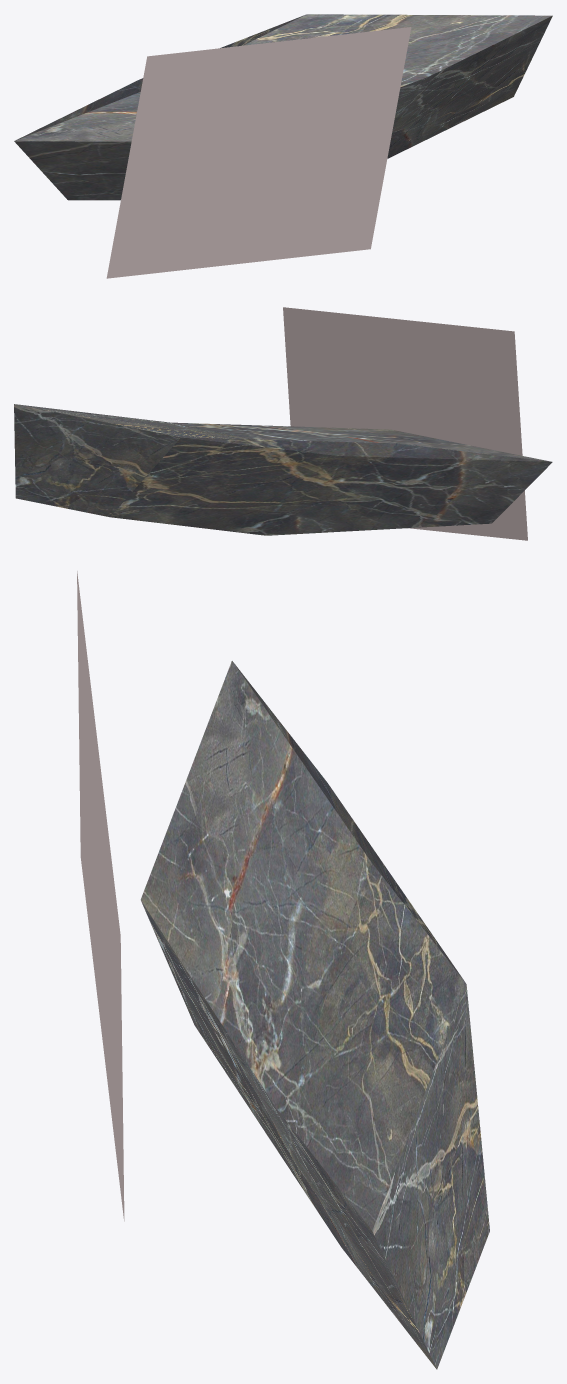
The model's file is marbleStatue.gltf.
3 renders of one model, top to bottom at view 1: azimuth 30°, elevation 25°; view 2: azimuth 150°, elevation 25°; view 3: azimuth 270°, elevation 25°, orthographic. The views are drawn at different scales.
Parts seen in each view (by area): view 1: Plane, Cube; view 2: Cube, Plane; view 3: Cube, Plane.
Boxes of the visible parts, box(x1,y1,x2,y2) form: Plane: box(106, 27, 411, 278); Cube: box(14, 14, 552, 200); Cube: box(14, 404, 552, 535); Plane: box(283, 307, 527, 540); Cube: box(140, 661, 489, 1369); Plane: box(77, 571, 124, 1221).
Bounding box in the file's own units: 10.78 × 4.64 × 3.83.
Materials: 2 (1 with a texture image).
